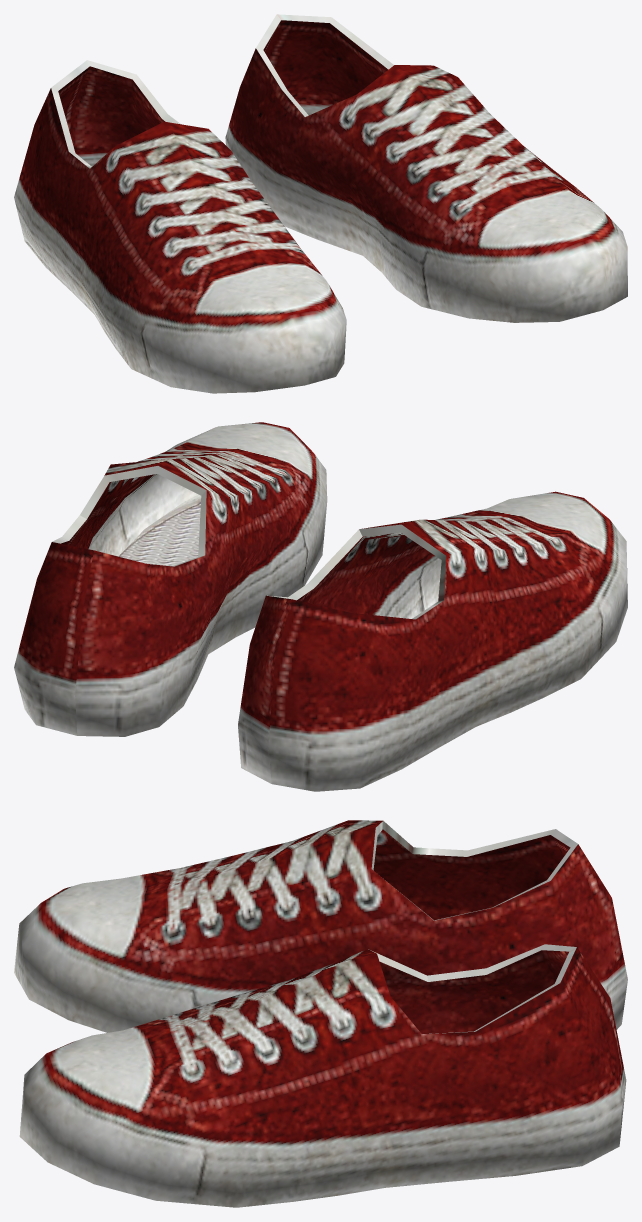
Rendered from Shoes 2.FBX.
The picture shows the model from 3 angles, top to bottom: view 1: azimuth 30°, elevation 25°; view 2: azimuth 150°, elevation 25°; view 3: azimuth 270°, elevation 25°; orthographic projection. The views are drawn at different scales.
Visible parts, largest first — view 1: left shoe, right shoe; view 2: right shoe, left shoe; view 3: left shoe, right shoe.
Part boxes in pixels (bbox=[...]): left shoe: bbox=[225, 14, 627, 322]; right shoe: bbox=[14, 60, 346, 393]; right shoe: bbox=[238, 491, 627, 791]; left shoe: bbox=[14, 422, 327, 736]; left shoe: bbox=[19, 944, 626, 1207]; right shoe: bbox=[14, 820, 627, 1032].
Size of the model in its own units: 26.19 by 27.11 by 9.55.
1 material, 1 textured.
